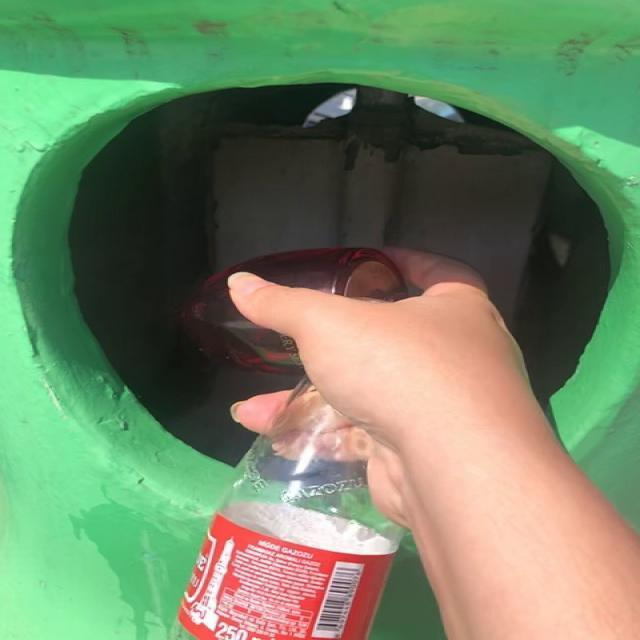Glass: (172, 379, 404, 640), (179, 380, 404, 640), (183, 248, 407, 372), (229, 249, 407, 300), (201, 293, 296, 354)
